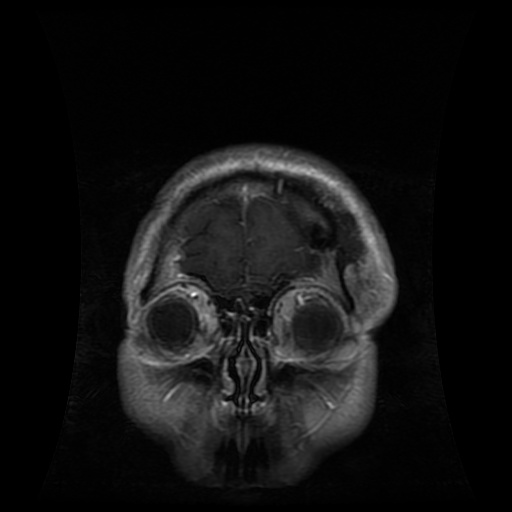glioma: (295, 223, 335, 253)
